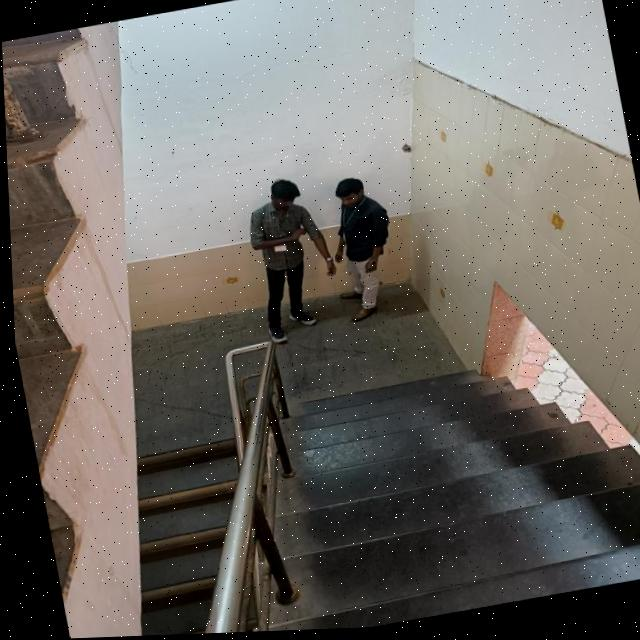id_card: (259, 206, 295, 259)
